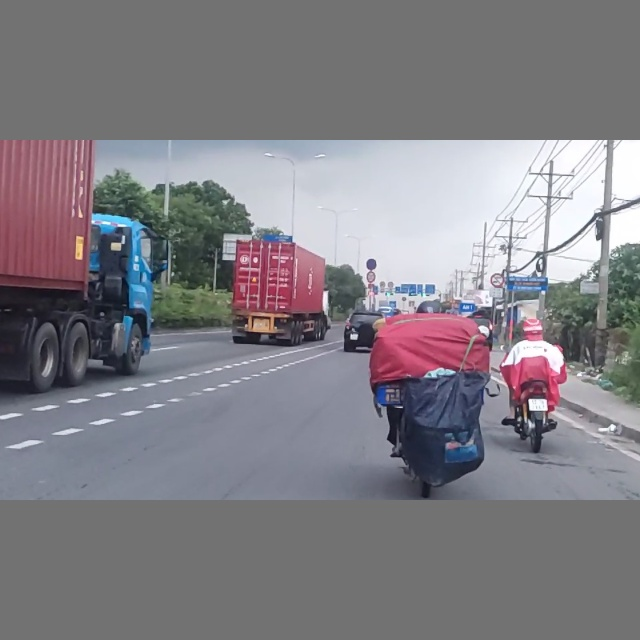P.107: (490, 273, 504, 288)
P.130: (365, 258, 377, 270)
